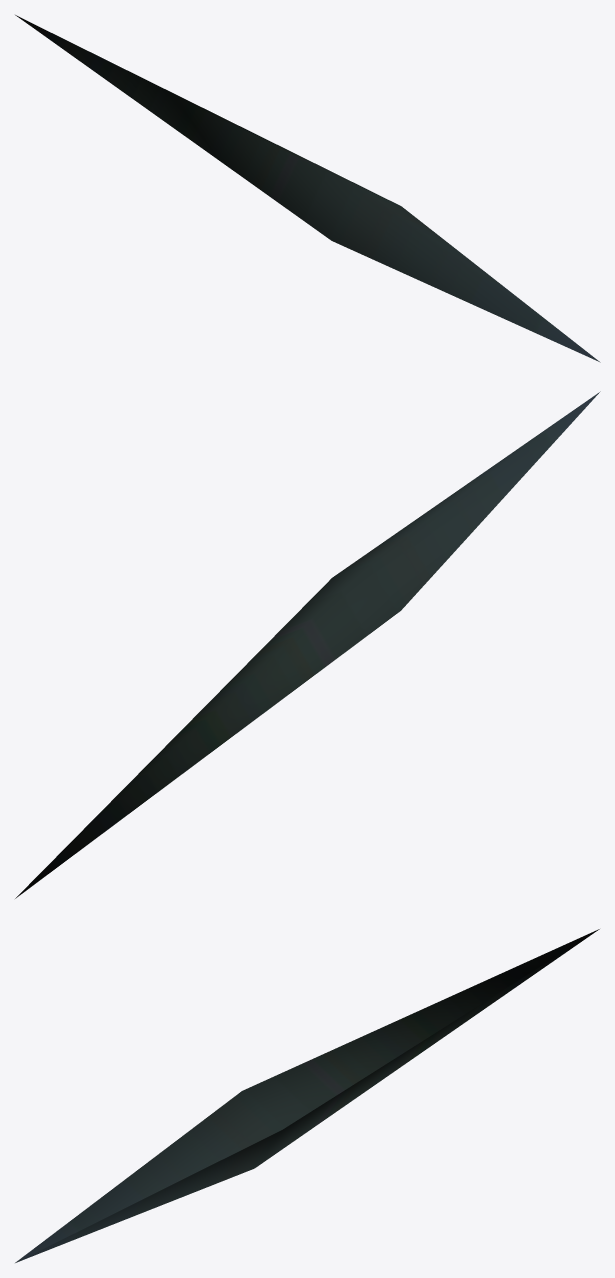
File: LunarShardMesh.fbx
3 views of the same model, one above another, from view 1: azimuth 30°, elevation 25°; view 2: azimuth 150°, elevation 25°; view 3: azimuth 330°, elevation 25° (orthographic). The views are drawn at different scales.
Parts seen in each view (by area): view 1: Mesh; view 2: Mesh; view 3: Mesh.
Part boxes in pixels (box(x1,y1,x2,y2)): Mesh: box(15, 15, 600, 362); Mesh: box(15, 391, 600, 898); Mesh: box(15, 929, 599, 1262).
Size of the model in its own units: 0.1525 by 0.187 by 2.24.
